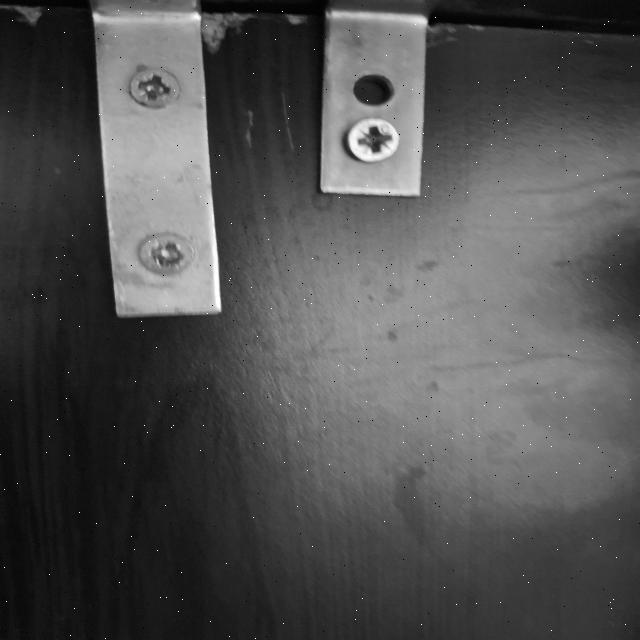Pozidriv: (130, 230, 194, 276), (352, 119, 400, 165), (132, 70, 179, 102)
